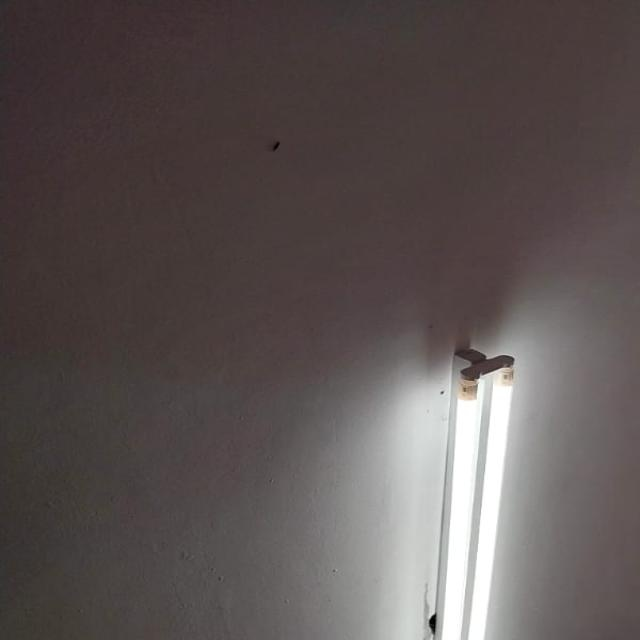fluorescent tube: (391, 312, 554, 640)
